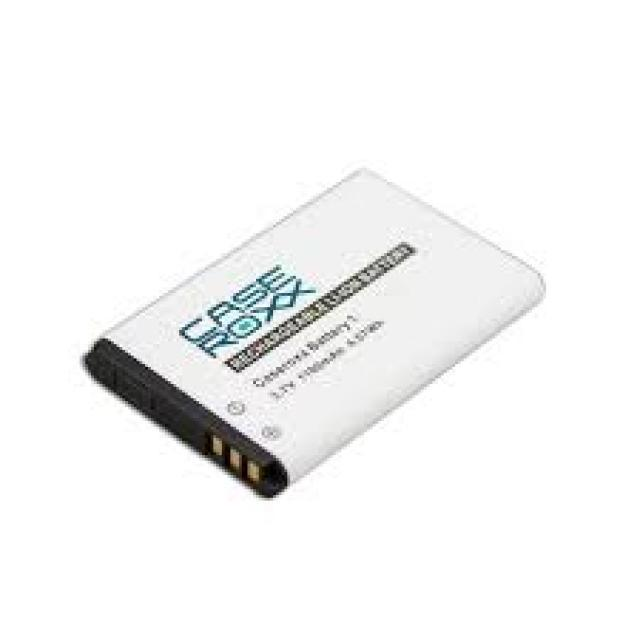battery: (81, 167, 548, 499)
